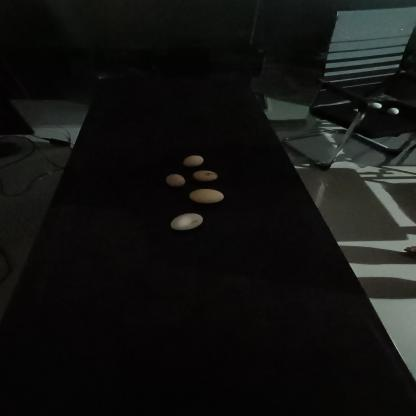egg: (168, 212, 208, 230), (191, 186, 224, 205), (159, 174, 191, 190), (191, 168, 222, 184), (180, 153, 208, 167)
